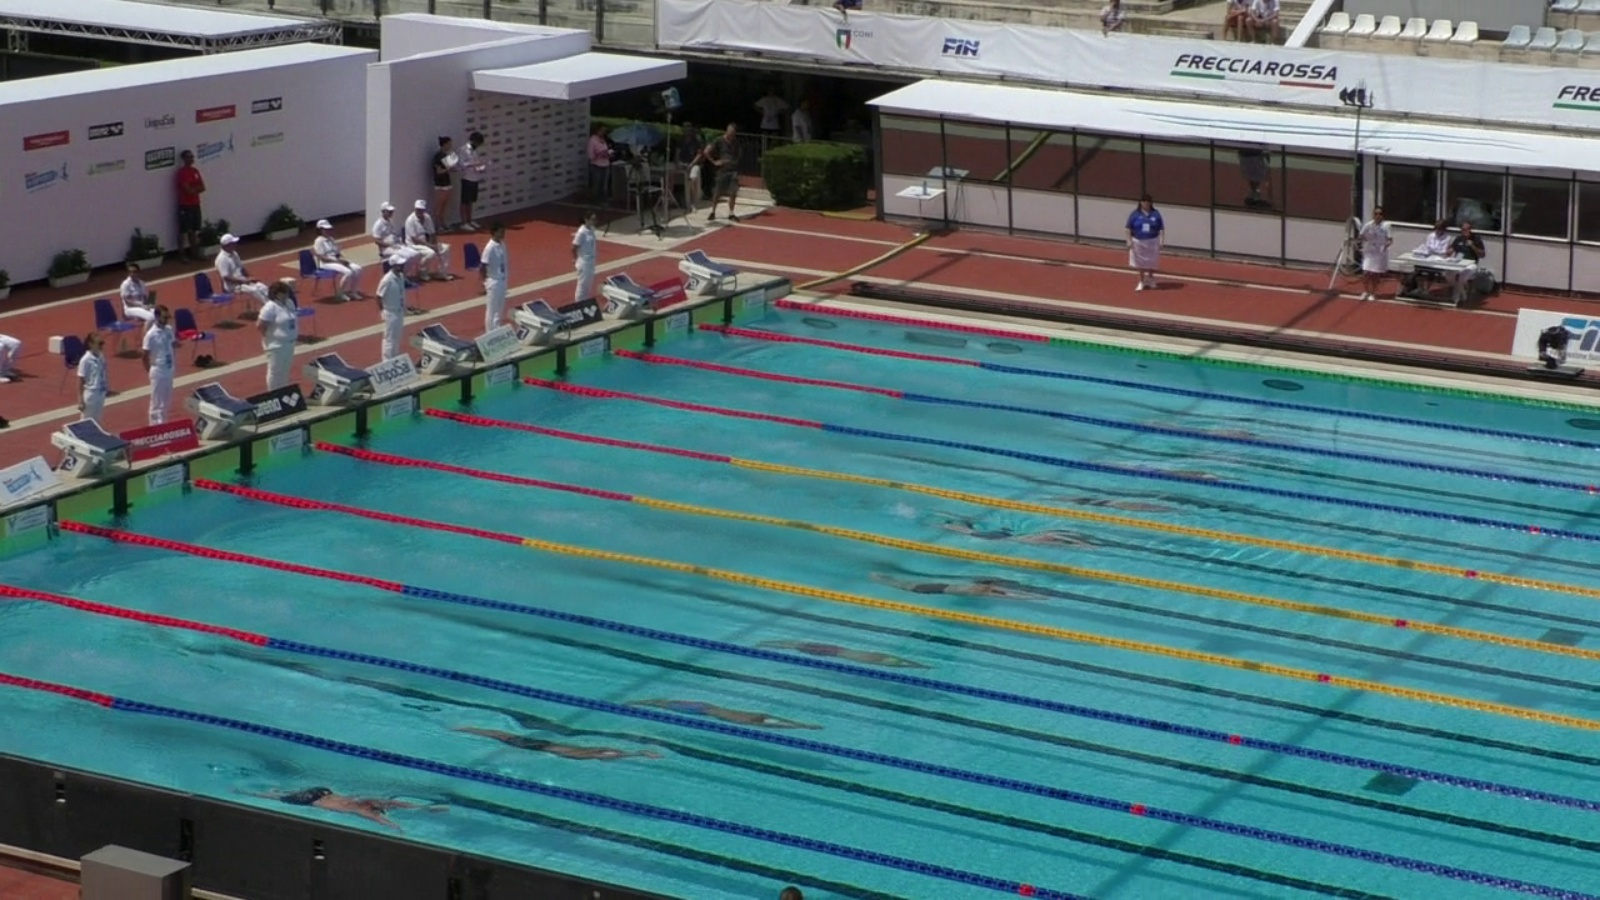swimmerwdd: (238, 779, 419, 837), (447, 724, 662, 773), (626, 697, 827, 733), (869, 569, 1046, 605), (759, 636, 931, 673), (935, 515, 1101, 553), (1045, 487, 1182, 515), (1114, 460, 1251, 484), (1149, 419, 1262, 444)
